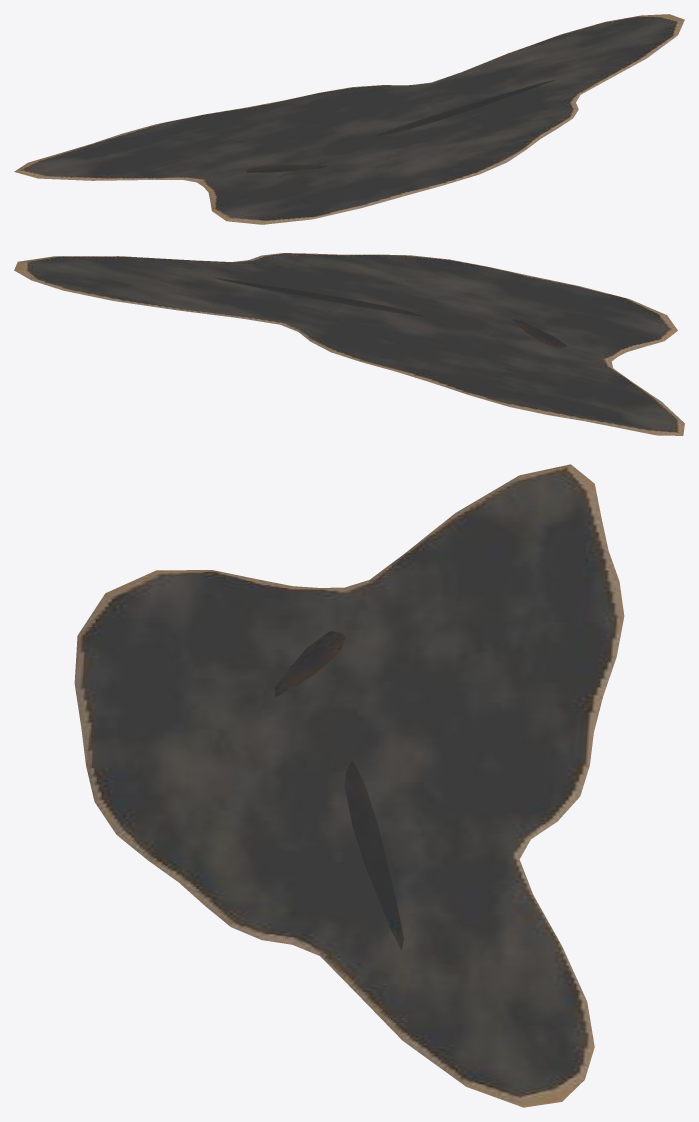
Rendered from D33_dark_puddle_flat_v2.glb.
3 renders of one model, top to bottom at view 1: azimuth 30°, elevation 25°; view 2: azimuth 150°, elevation 25°; view 3: azimuth 270°, elevation 25°, orthographic. The views are drawn at different scales.
Visible parts, largest first — view 1: Dark_Puddle_Flat_1; view 2: Dark_Puddle_Flat_1; view 3: Dark_Puddle_Flat_1.
Part boxes in pixels (x1=…): Dark_Puddle_Flat_1: x1=14, y1=14, x2=684, y2=224; Dark_Puddle_Flat_1: x1=14, y1=253, x2=684, y2=435; Dark_Puddle_Flat_1: x1=74, y1=464, x2=624, y2=1107.
Bounding box in the file's own units: 1 × 0.00165 × 0.3611.
3 materials, 3 textured.
